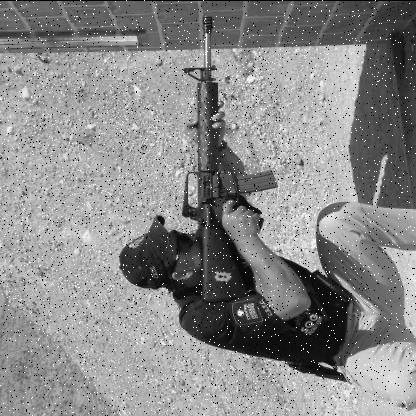rifle: (161, 8, 288, 312)
